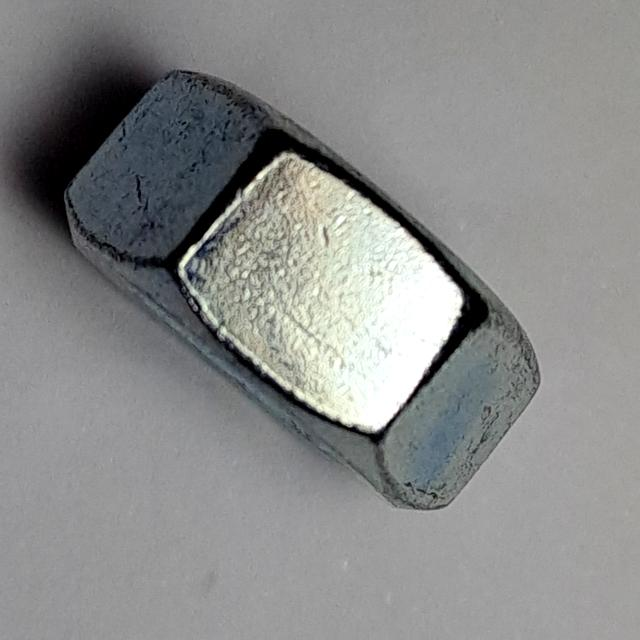Side_Excellent: (53, 62, 561, 527)
